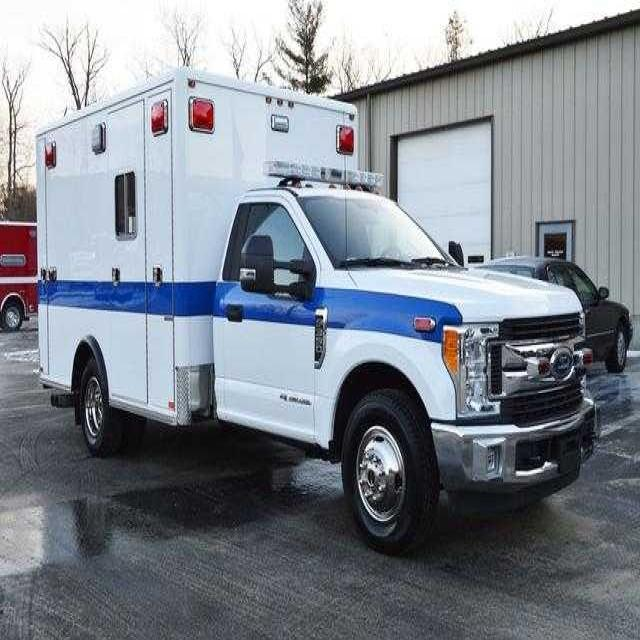ambulance: (43, 80, 565, 459)
